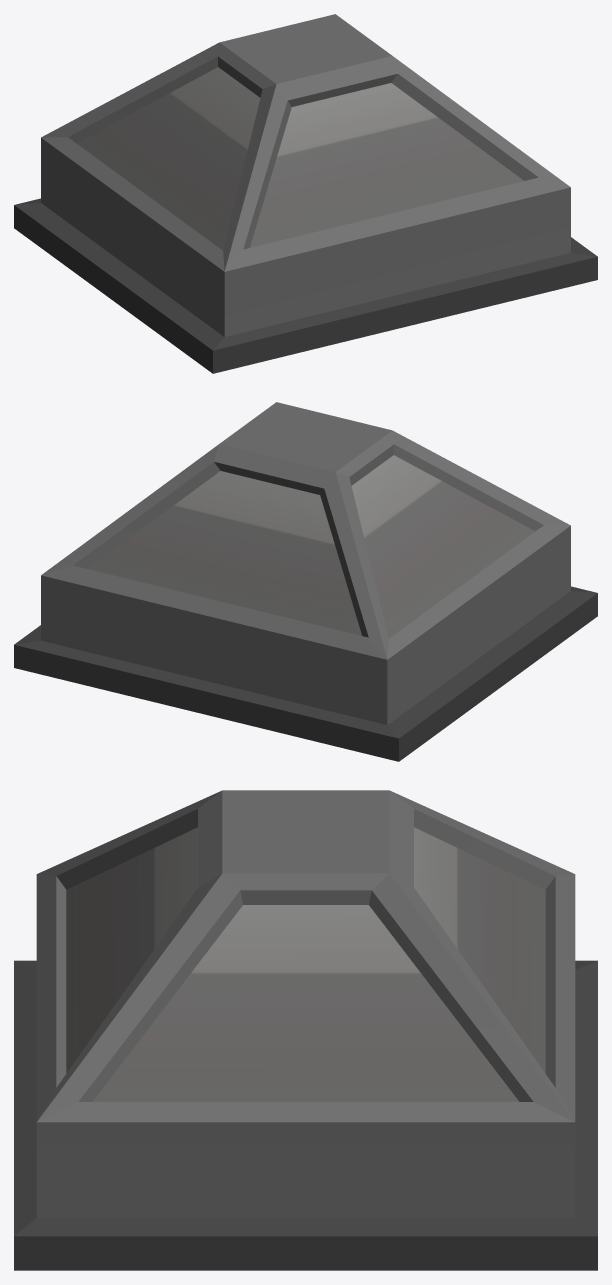
The model's file is RoofLights_3_B.fbx.
3 views of the same model, one above another, from view 1: azimuth 30°, elevation 25°; view 2: azimuth 150°, elevation 25°; view 3: azimuth 270°, elevation 25° (orthographic). The views are drawn at different scales.
Parts seen in each view (by area): view 1: RoofLights_3_B; view 2: RoofLights_3_B; view 3: RoofLights_3_B.
Part boxes in pixels (<box>): RoofLights_3_B: <box>14,14,597,373</box>; RoofLights_3_B: <box>14,402,597,761</box>; RoofLights_3_B: <box>14,790,597,1270</box>.
Bounding box in the file's own units: 73.17 × 37.23 × 65.51.
